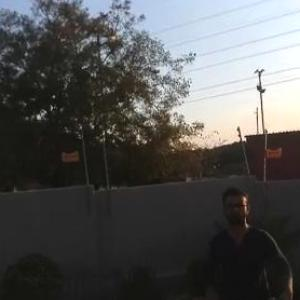follow: (196, 181, 300, 299)
